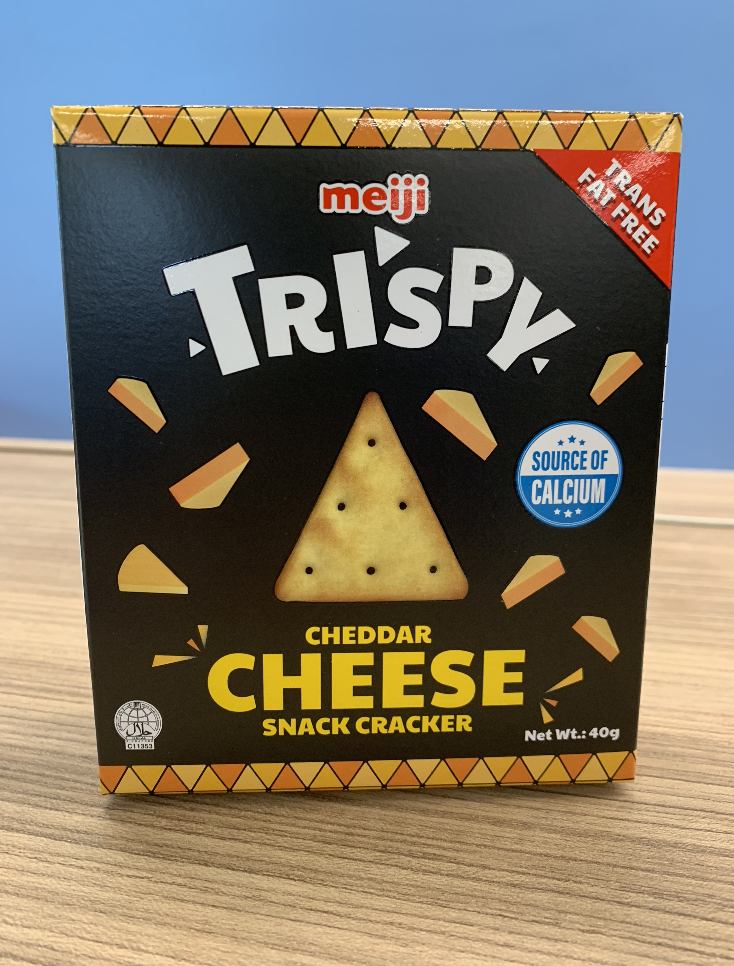crackers_1g-99g: (106, 144, 632, 754)
